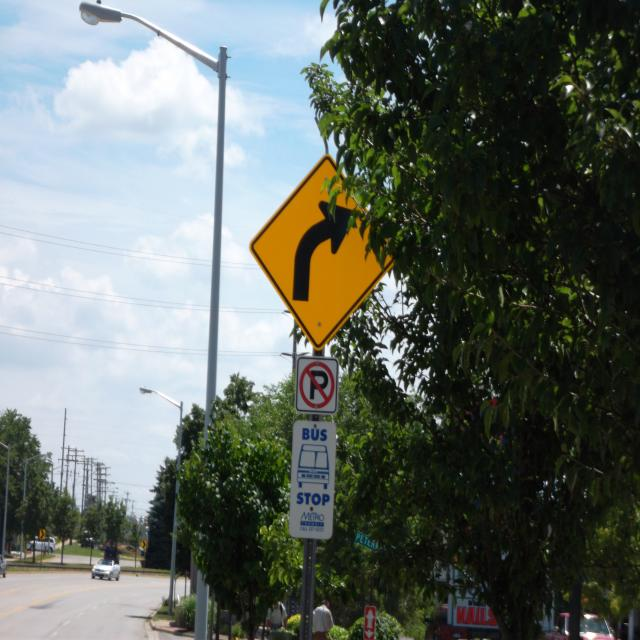regulatory: (291, 353, 343, 415)
warning: (243, 140, 405, 352)
